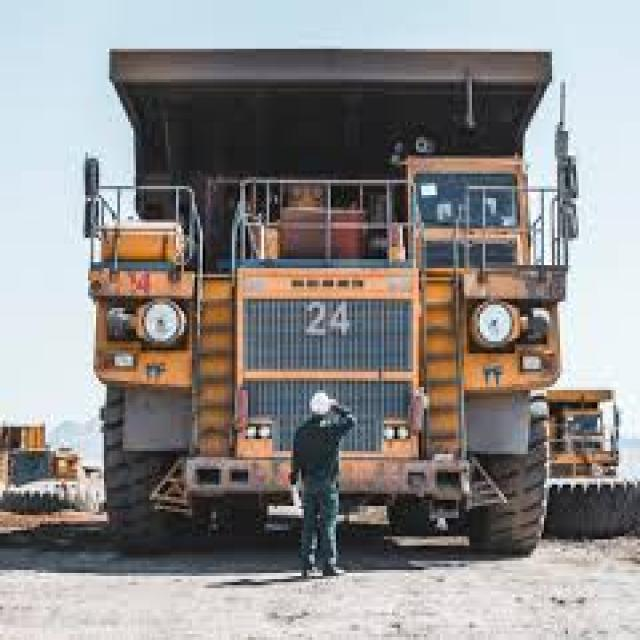dump_truck: (56, 27, 581, 564)
